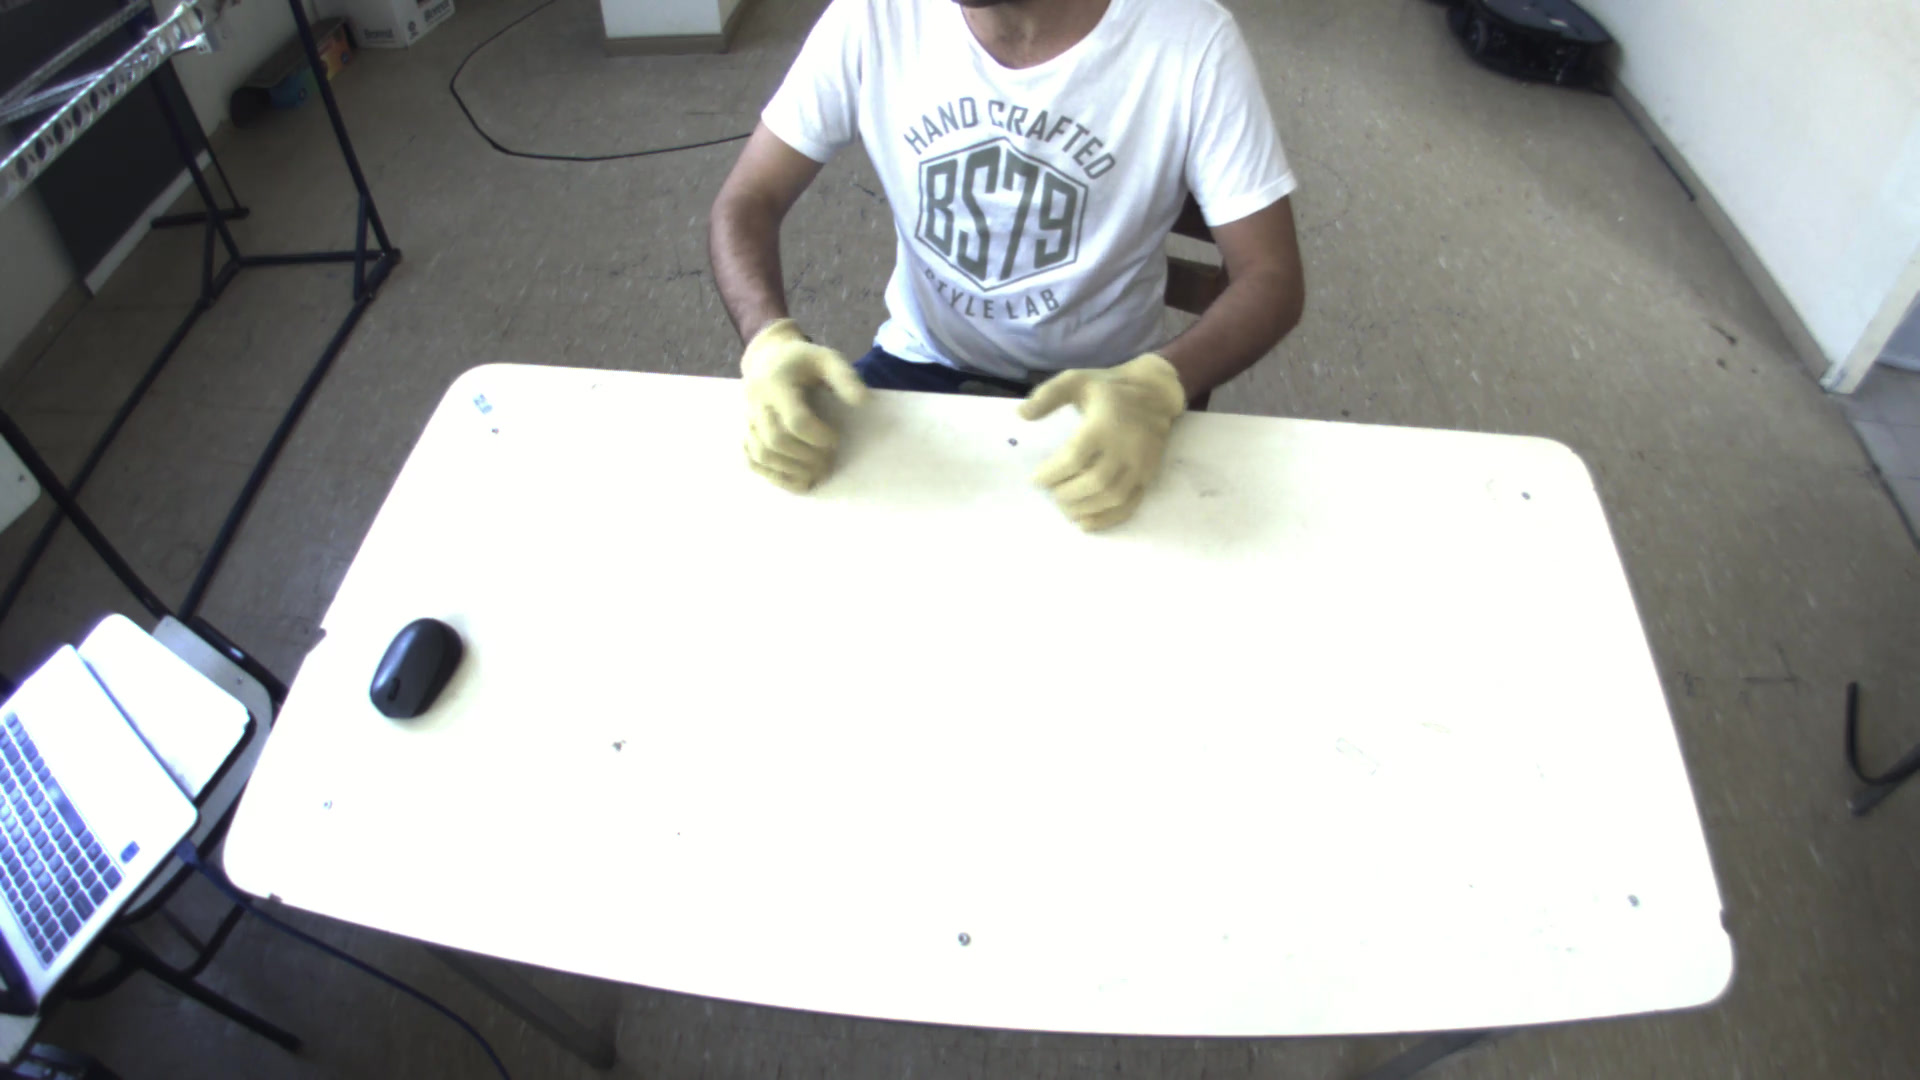hand: (1007, 334, 1196, 534), (727, 305, 872, 501)
